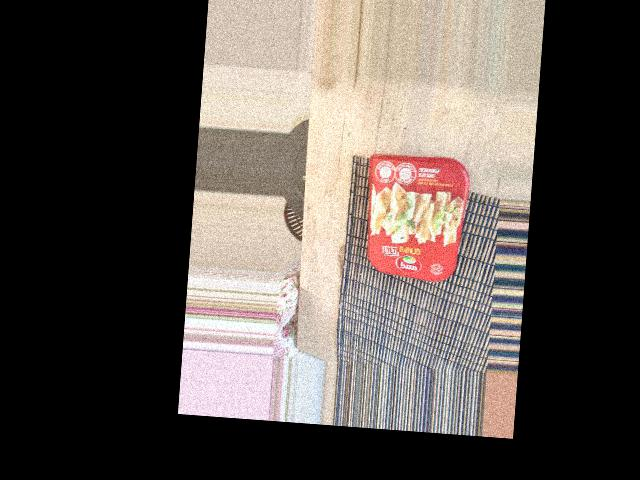cheese: (366, 235, 505, 332)
